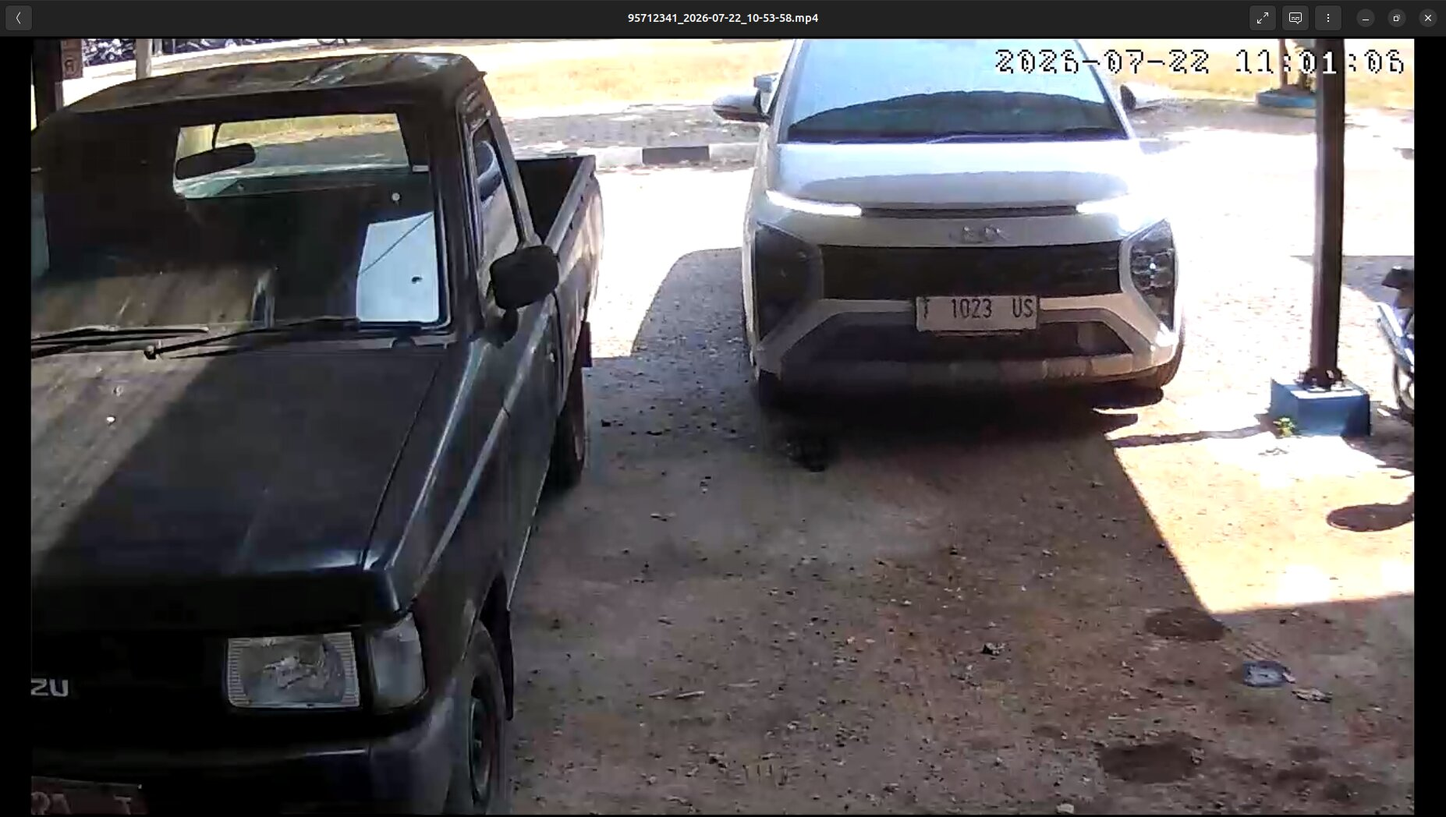plat nomor: (913, 295, 1038, 334)
